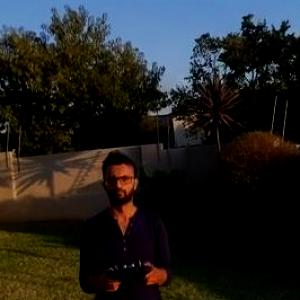follow: (63, 142, 168, 299)
